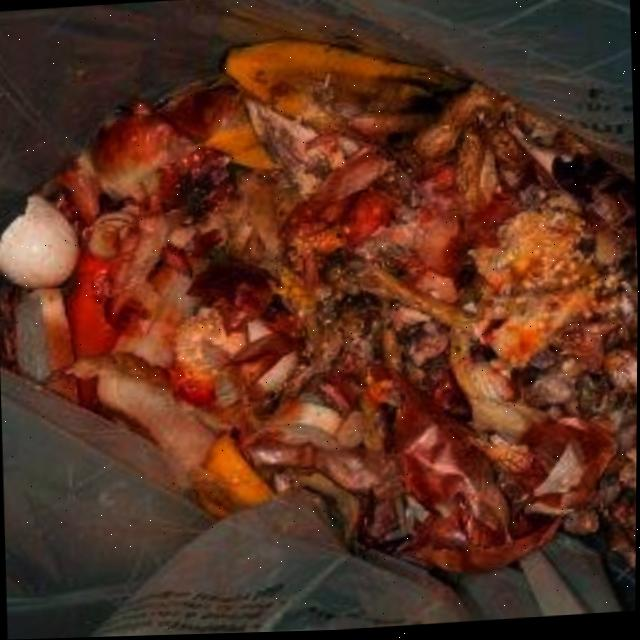Garbage: (0, 35, 638, 594)
